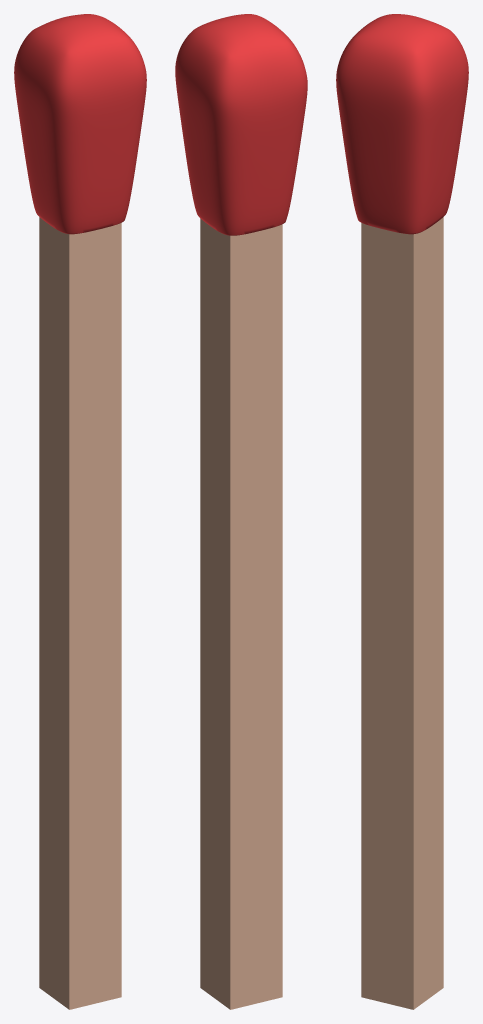
Rendered from Match.fbx.
3 renders of one model, left to right at view 1: azimuth 30°, elevation 25°; view 2: azimuth 210°, elevation 25°; view 3: azimuth 330°, elevation 25°, orthographic.
Visible parts, largest first — view 1: Cube.006, Cube.007; view 2: Cube.006, Cube.007; view 3: Cube.006, Cube.007.
Part boxes in pixels (x1,y1,x2,y2): Cube.006: (39, 217, 121, 1009); Cube.007: (14, 14, 146, 234); Cube.006: (200, 218, 282, 1009); Cube.007: (175, 14, 307, 235); Cube.006: (361, 217, 443, 1009); Cube.007: (336, 14, 468, 234).
Size of the model in its own units: 120 by 1150 by 120.
